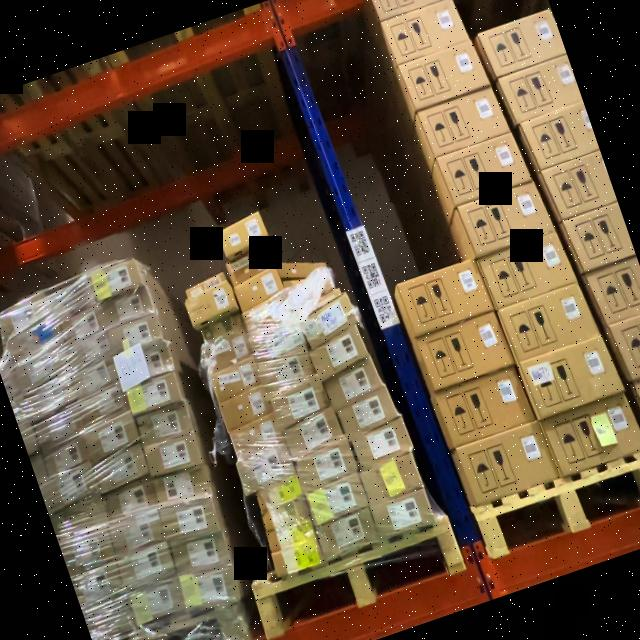box: (453, 419, 559, 506), (521, 333, 624, 417), (498, 282, 601, 364), (434, 366, 534, 448), (414, 312, 516, 392), (544, 391, 640, 475), (395, 256, 494, 337), (456, 178, 554, 256), (481, 230, 577, 308), (438, 131, 530, 205), (420, 86, 510, 158), (478, 8, 566, 78), (402, 40, 489, 110), (498, 54, 582, 124), (382, 0, 470, 65), (524, 103, 600, 171), (564, 203, 636, 272), (544, 153, 617, 220), (587, 257, 640, 327), (369, 488, 436, 542), (359, 451, 425, 505), (316, 509, 382, 561), (294, 440, 360, 492), (334, 386, 400, 438), (181, 563, 245, 616), (305, 472, 370, 524), (350, 417, 414, 469), (170, 528, 234, 580), (159, 493, 223, 545), (150, 461, 214, 512), (115, 540, 177, 592), (321, 358, 384, 408), (295, 294, 356, 345), (308, 328, 370, 378), (270, 376, 332, 426), (112, 337, 174, 387), (143, 430, 205, 480), (283, 409, 346, 458), (81, 412, 142, 462), (90, 444, 150, 494), (109, 508, 168, 558), (128, 579, 188, 628), (236, 442, 296, 490), (134, 400, 194, 448), (208, 353, 266, 400), (100, 478, 158, 524), (260, 348, 318, 394), (124, 371, 182, 416), (94, 287, 154, 330), (14, 347, 72, 391), (249, 318, 307, 362), (85, 258, 142, 302), (72, 562, 126, 608), (104, 313, 163, 355), (4, 322, 63, 364), (219, 386, 274, 430), (0, 295, 55, 339), (230, 414, 284, 458), (232, 265, 286, 309), (22, 376, 78, 418), (287, 272, 343, 314), (65, 356, 118, 400), (218, 212, 270, 256), (74, 384, 128, 426), (187, 283, 240, 325), (610, 312, 640, 385), (64, 533, 117, 574), (84, 600, 138, 640), (48, 467, 98, 510), (202, 333, 256, 372), (226, 243, 278, 283), (54, 496, 108, 534), (240, 294, 292, 332), (271, 541, 324, 578), (42, 438, 91, 478), (33, 409, 83, 448), (264, 518, 316, 554), (276, 248, 328, 284), (196, 310, 247, 346), (56, 308, 104, 346), (62, 331, 110, 369), (254, 475, 305, 510), (366, 0, 450, 21), (262, 496, 310, 530), (186, 270, 230, 298), (28, 452, 51, 487), (18, 422, 40, 456), (0, 363, 21, 398)
